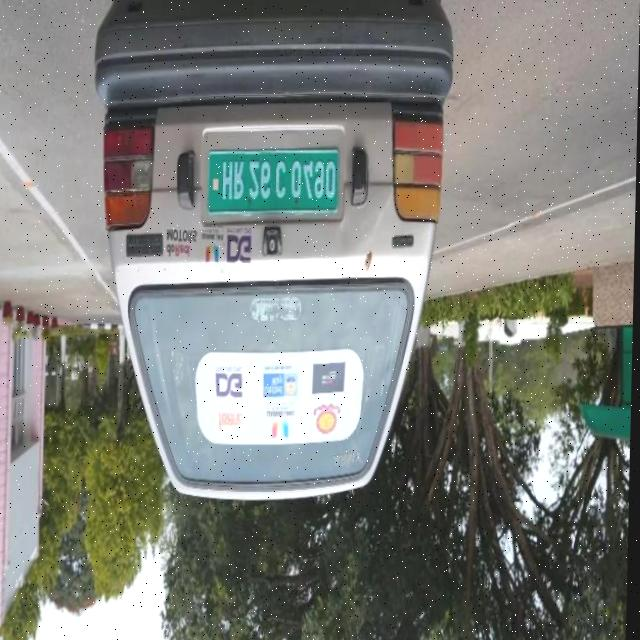plate: (205, 148, 342, 217)
